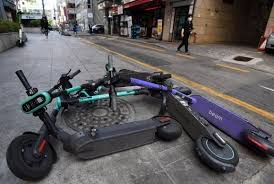fallin_kick: (7, 69, 181, 179), (108, 54, 273, 152)
